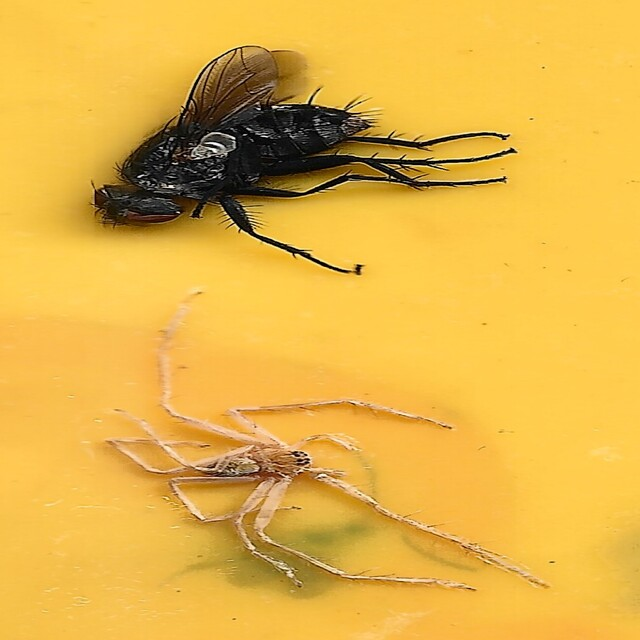Araneae: (95, 292, 546, 594)
Brachycera: (94, 46, 516, 278)
